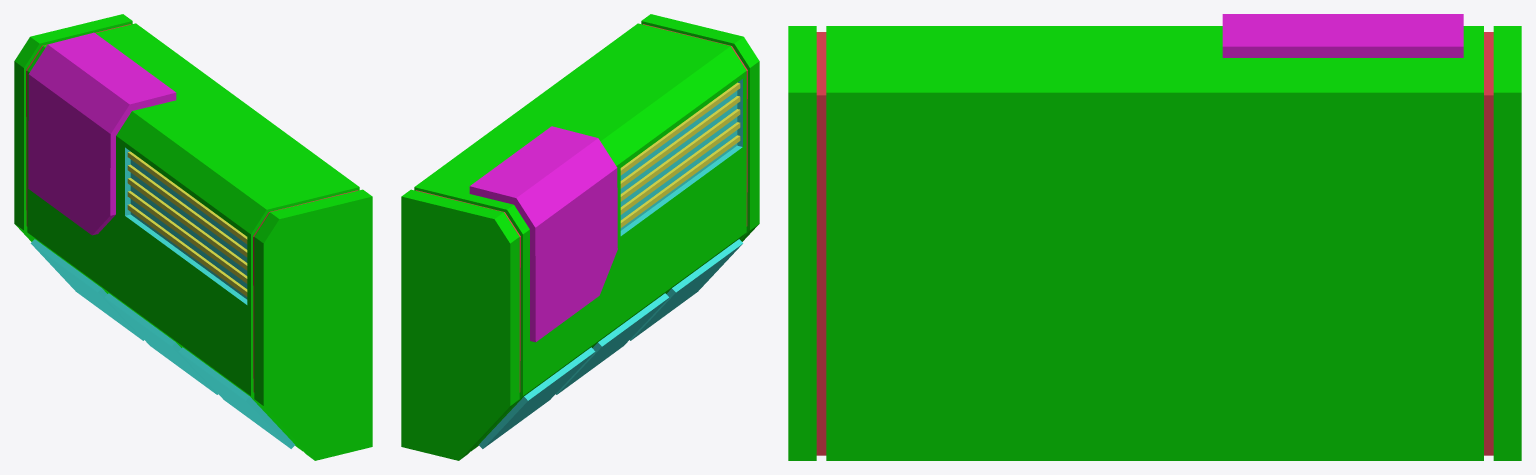
The model's file is Circuit_Box_04.fbx.
3 renders of one model, left to right at view 1: azimuth 30°, elevation 25°; view 2: azimuth 150°, elevation 25°; view 3: azimuth 270°, elevation 25°, orthographic. The views are drawn at different scales.
Visible parts, largest first — view 1: Circuit_Box_04; view 2: Circuit_Box_04; view 3: Circuit_Box_04.
Boxes of the visible parts, left/top/right/bottom form: Circuit_Box_04: left=14, top=14, right=372, bottom=460; Circuit_Box_04: left=401, top=14, right=759, bottom=460; Circuit_Box_04: left=788, top=14, right=1521, bottom=460.
Bounding box in the file's own units: 21.63 × 46.53 × 81.45.
